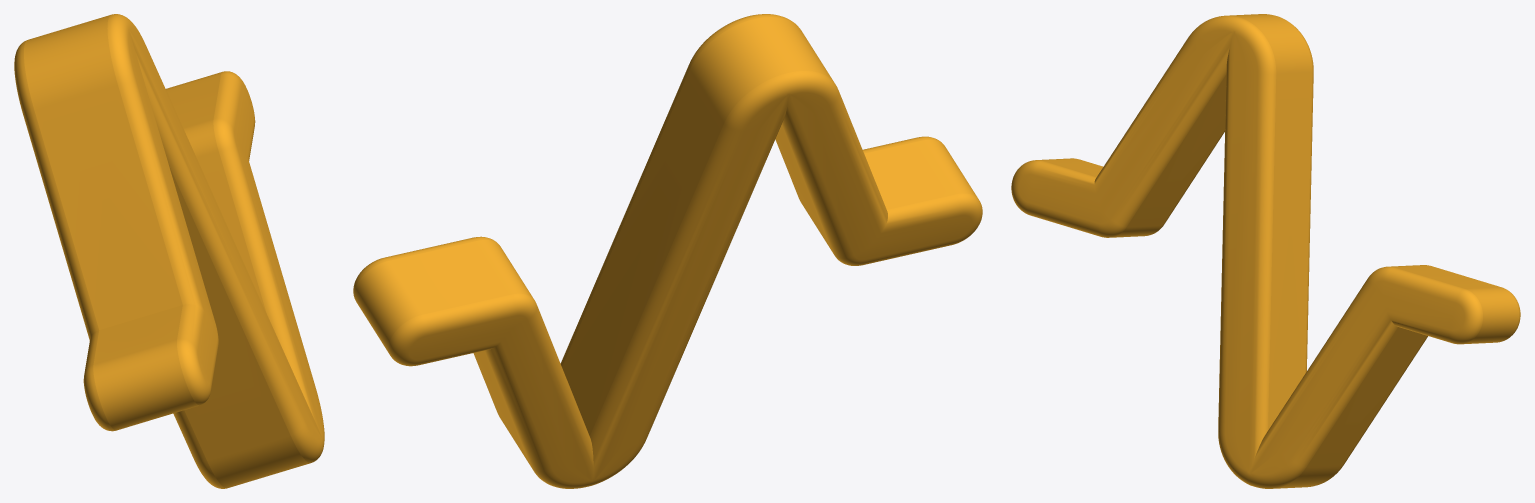
The picture shows the model from 3 angles, left to right: view 1: azimuth 30°, elevation 25°; view 2: azimuth 150°, elevation 25°; view 3: azimuth 270°, elevation 25°; orthographic projection. The views are drawn at different scales.
Visible parts, largest first — view 1: AdobeIllustratorMesh1.001; view 2: AdobeIllustratorMesh1.001; view 3: AdobeIllustratorMesh1.001.
Boxes of the visible parts, x1=… form: AdobeIllustratorMesh1.001: x1=14, y1=14, x2=324, y2=488; AdobeIllustratorMesh1.001: x1=353, y1=14, x2=982, y2=488; AdobeIllustratorMesh1.001: x1=1011, y1=14, x2=1520, y2=488.
Size of the model in its own units: 4.32 by 5.12 by 5.77.
